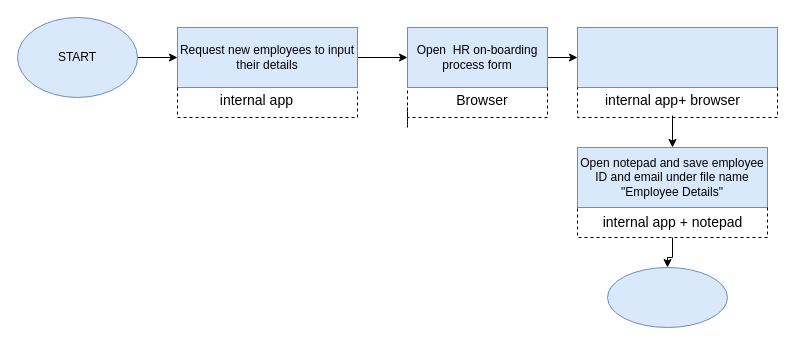
This 796x345 diagram has some shape labels left out. The centre of each missing label's shape, as x and y in pixels:
END: the point at 667,297
Generate employee ID and email using data provided by employee: the point at 677,57
